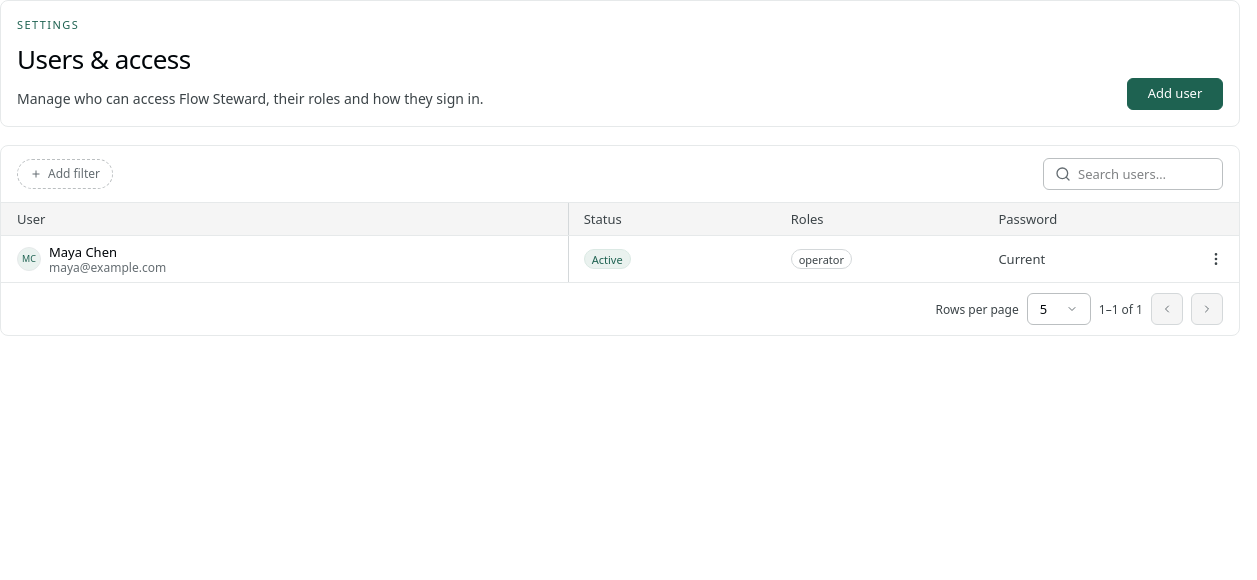
SettingsUsersPage › names the user after clearing a sign-in lockout
This screenshot has width=1257, height=580.
What coordinates should you click on to do the following:
click the button named "Actions for Maya Chen"
I would click on:
 (1216, 259)
Its box is [1200,243,1232,275].
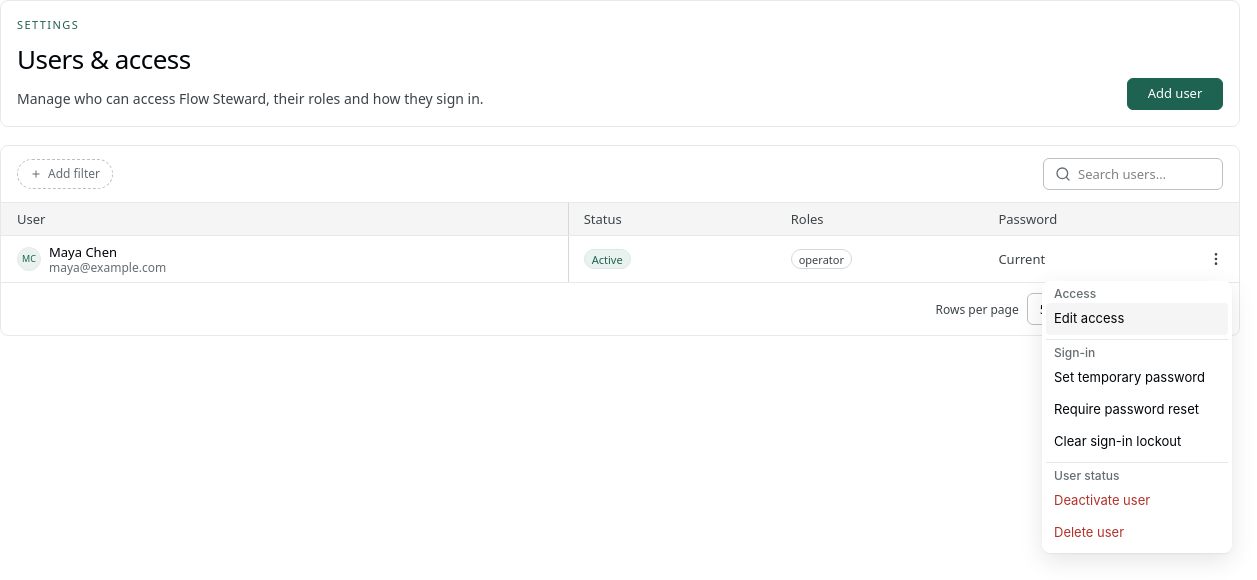
What coordinates should you click on to do the following:
click the menu item "Clear sign-in lockout"
I would click on:
 (1137, 442)
Its box is [1046,426,1228,458].
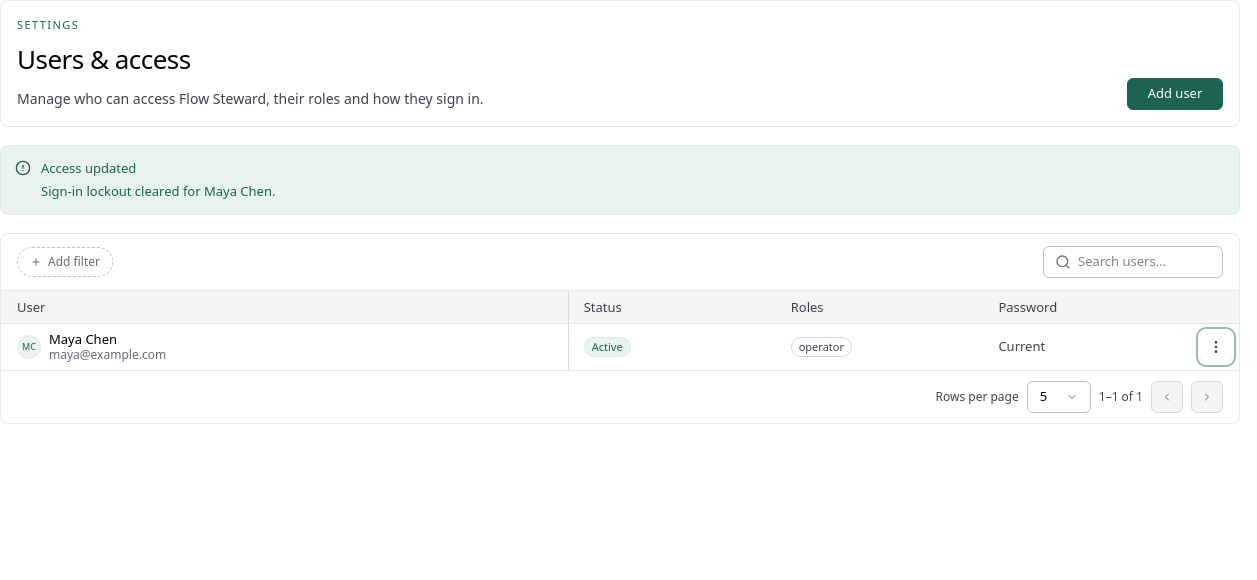
Now the text "Sign-in lockout cleared for Maya Chen." is shown, box [41,182,276,200]
